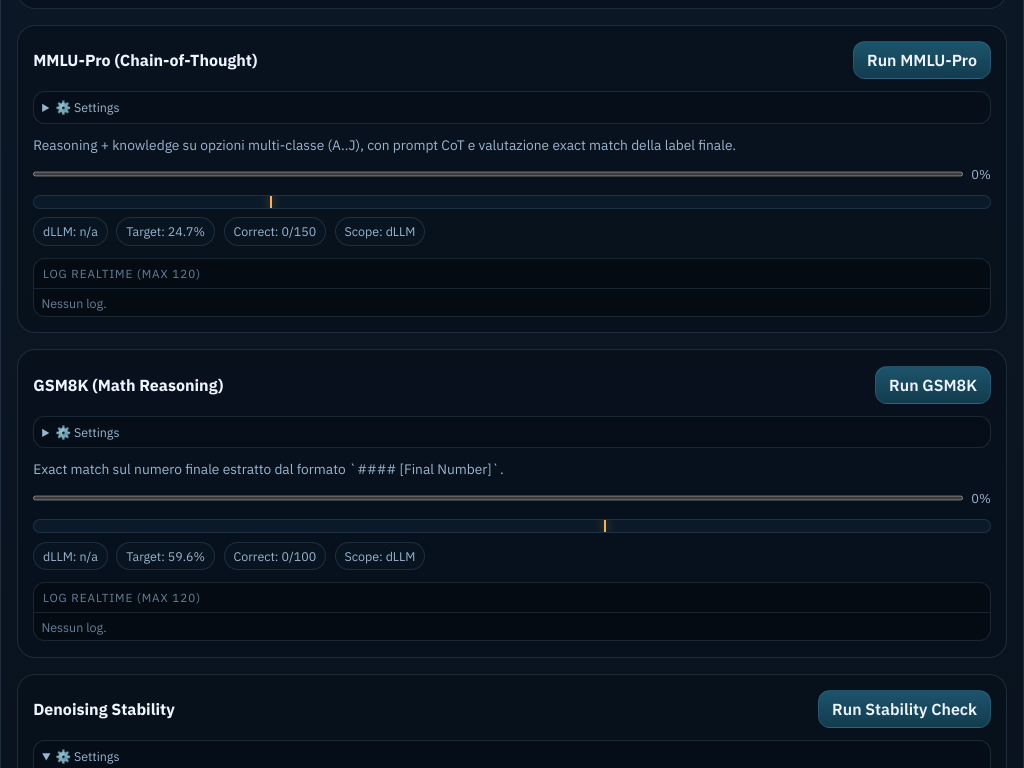
Test: Stage0Validation › runs GSM8K benchmark only on explicit click
(page scrolled)
Click the button "Run GSM8K" at (933, 384), box [875, 366, 991, 404]
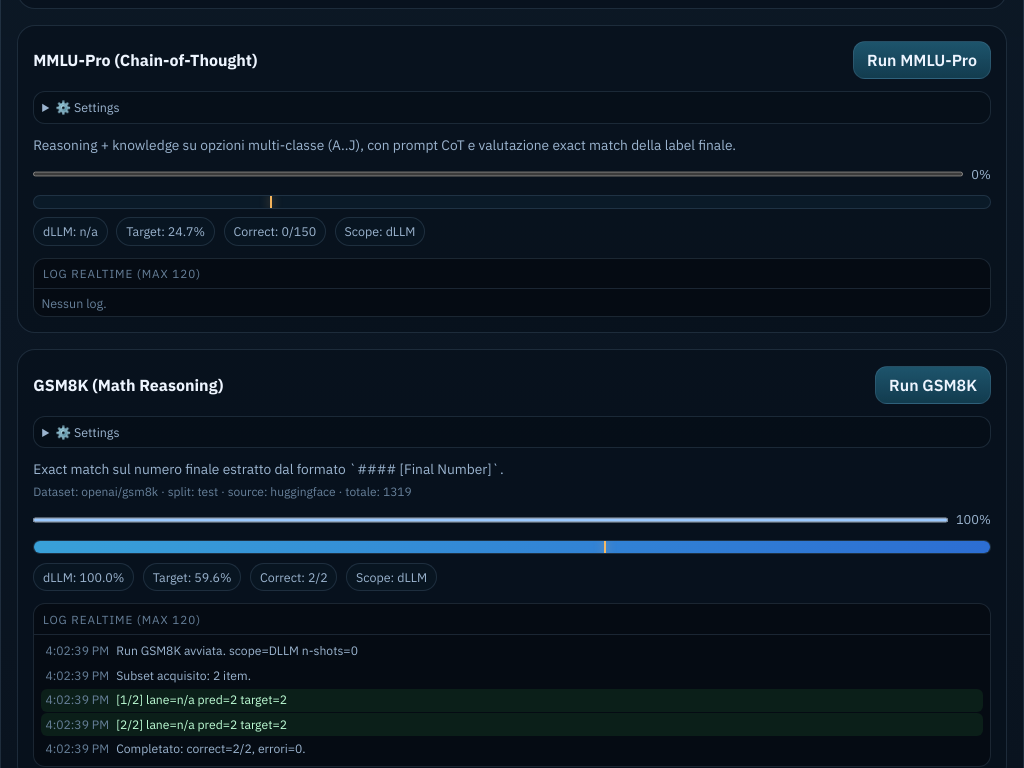
Result: the text "100%" is shown at [956, 511, 991, 528]
